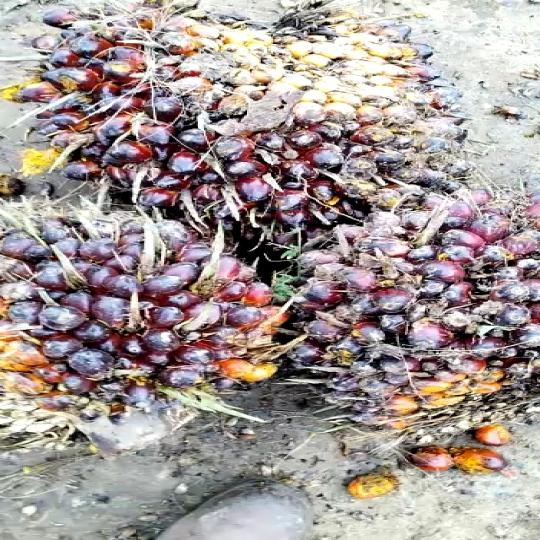kurang masak: (0, 2, 512, 246), (0, 197, 298, 444), (268, 207, 540, 438)
